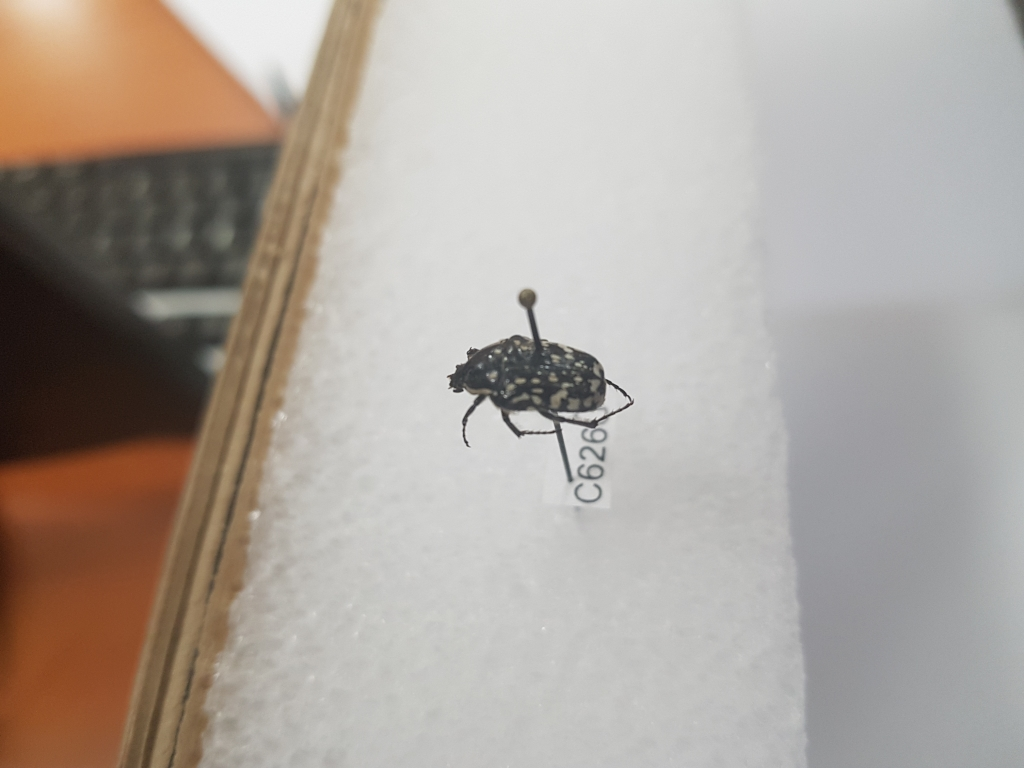Oxythyrea_funesta: (441, 323, 640, 453)
